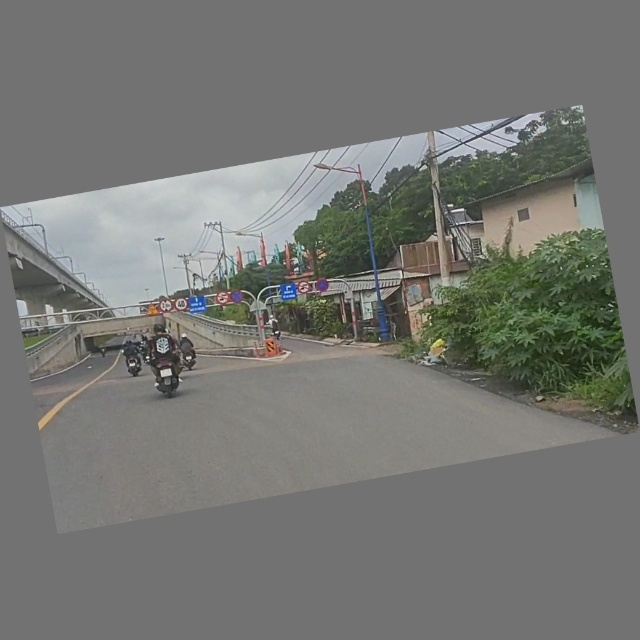P.107: (215, 290, 230, 306), (296, 280, 311, 296)
P.117*: (159, 298, 173, 314)
P.127*40: (174, 297, 189, 313)
P.130: (229, 290, 245, 305), (315, 278, 330, 293)
W.239b*: (144, 302, 160, 319)
